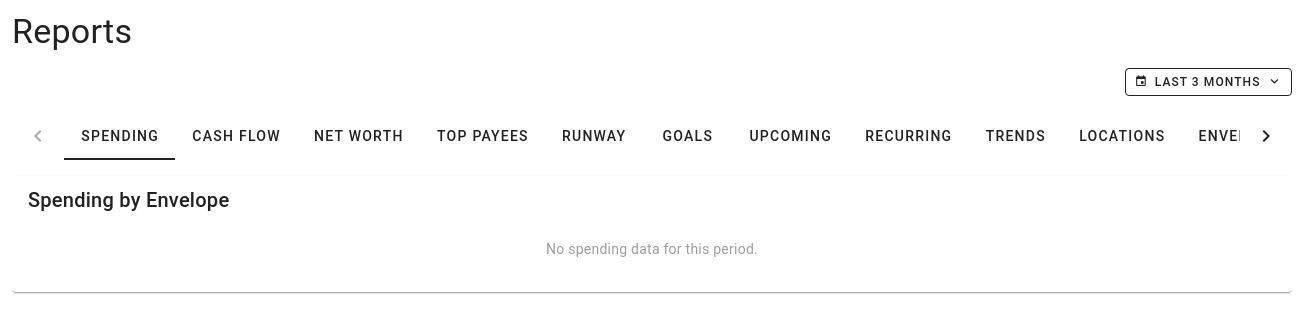
Test: ReportsView › Trends Tab › displays trends card
Click the tab "Trends" at (1015, 136), box [968, 112, 1062, 160]
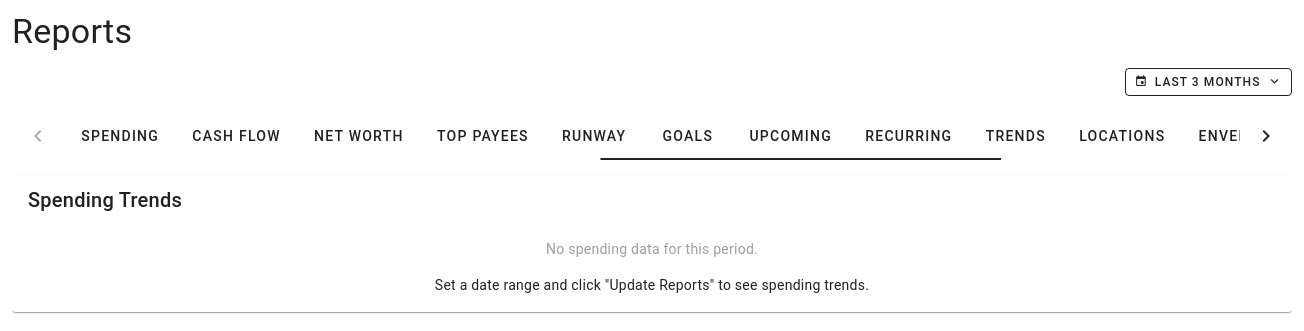
Now the text "Spending Trends" is shown, box [28, 188, 182, 212]
